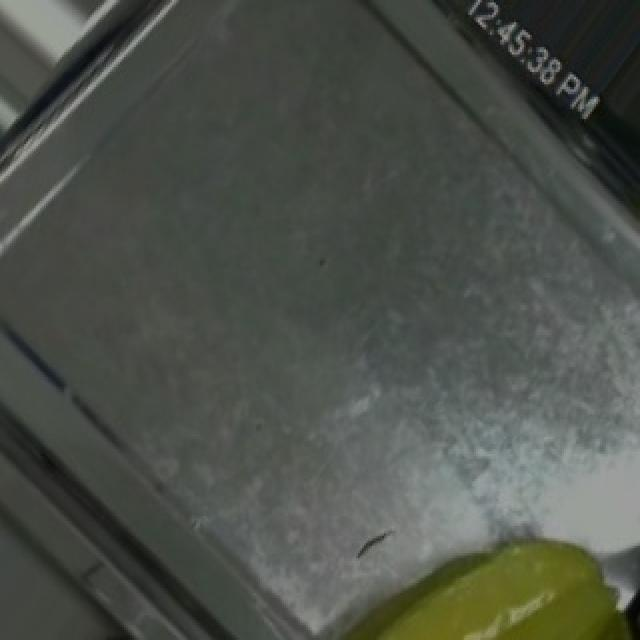fruit: (310, 498, 640, 640)
